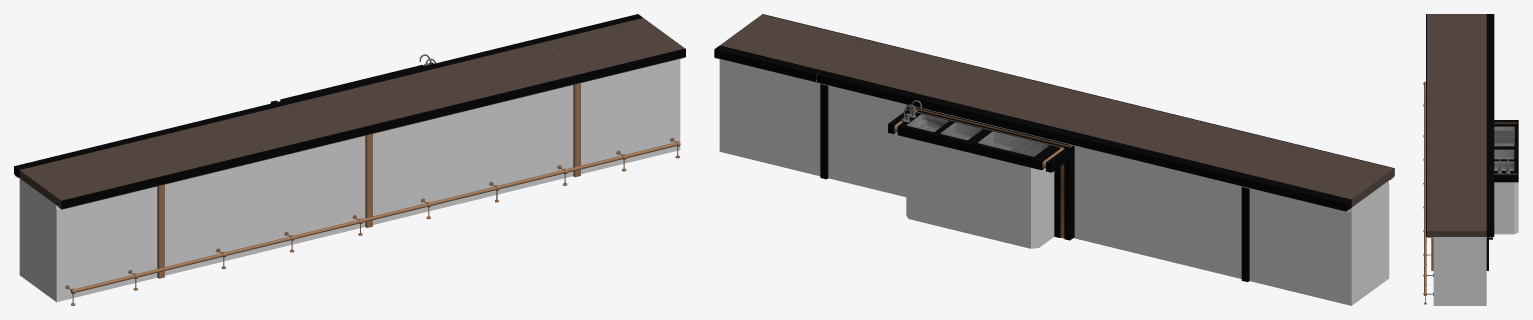
File: barcounter2.fbx
3 renders of one model, left to right at view 1: azimuth 30°, elevation 25°; view 2: azimuth 150°, elevation 25°; view 3: azimuth 270°, elevation 25°, orthographic. The views are drawn at different scales.
Visible parts, largest first — view 1: counter; view 2: counter; view 3: counter.
Boxes of the visible parts, left/top/right/bottom form: counter: left=14, top=14, right=685, bottom=305; counter: left=714, top=14, right=1394, bottom=305; counter: left=1423, top=14, right=1518, bottom=305.
Size of the model in its own units: 600 by 99.53 by 111.
